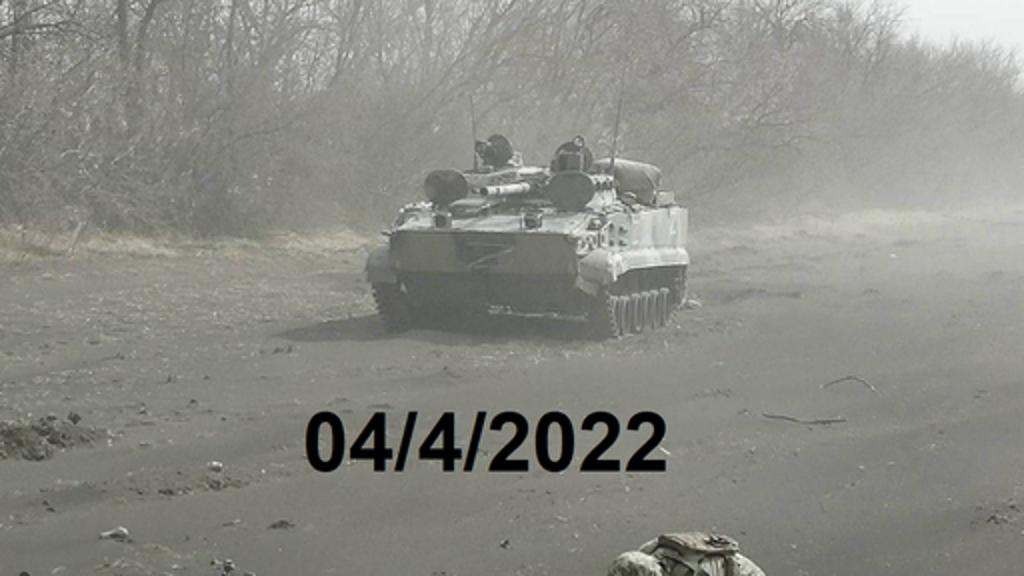APC-IFV: (348, 132, 700, 344)
